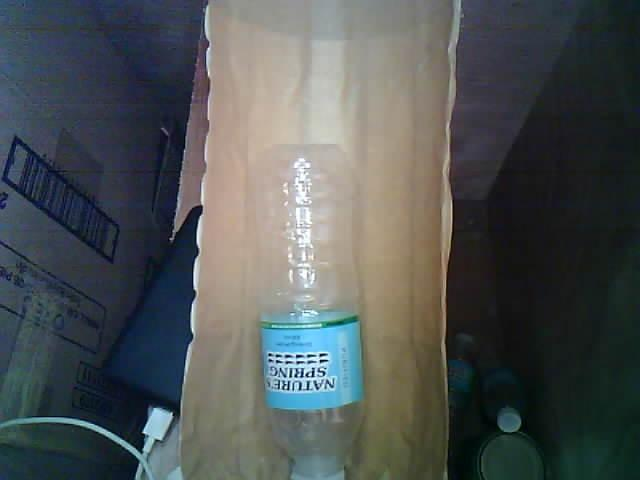small_bottle: (238, 126, 386, 480)
